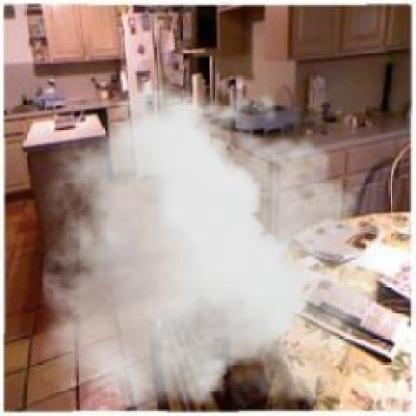Smoke: (42, 71, 402, 411)
